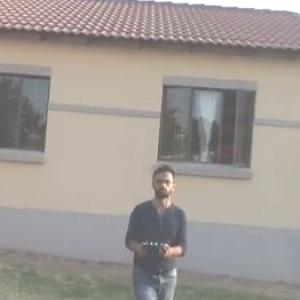follow: (117, 157, 190, 299)
